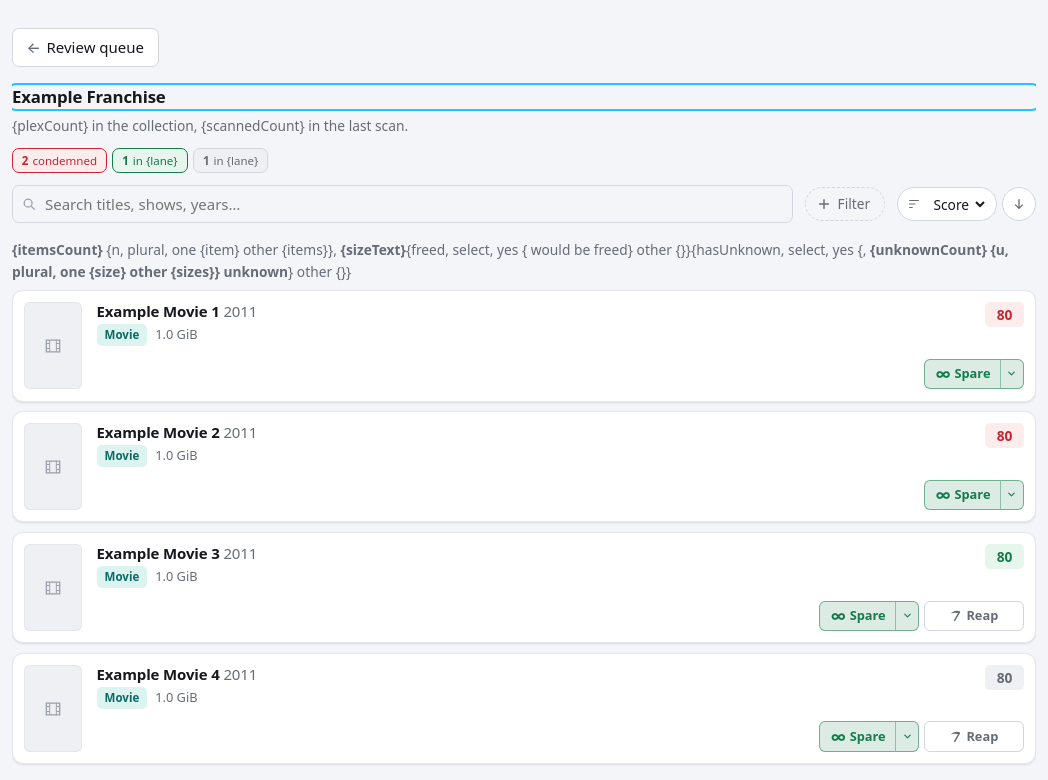
Test: the collection screen › the back link returns to a plain lane view
expect the button "Example Movie 1" is shown: met, box [97,302,220,320]
Click the button "← Review queue": (85, 47) [12,28,159,67]
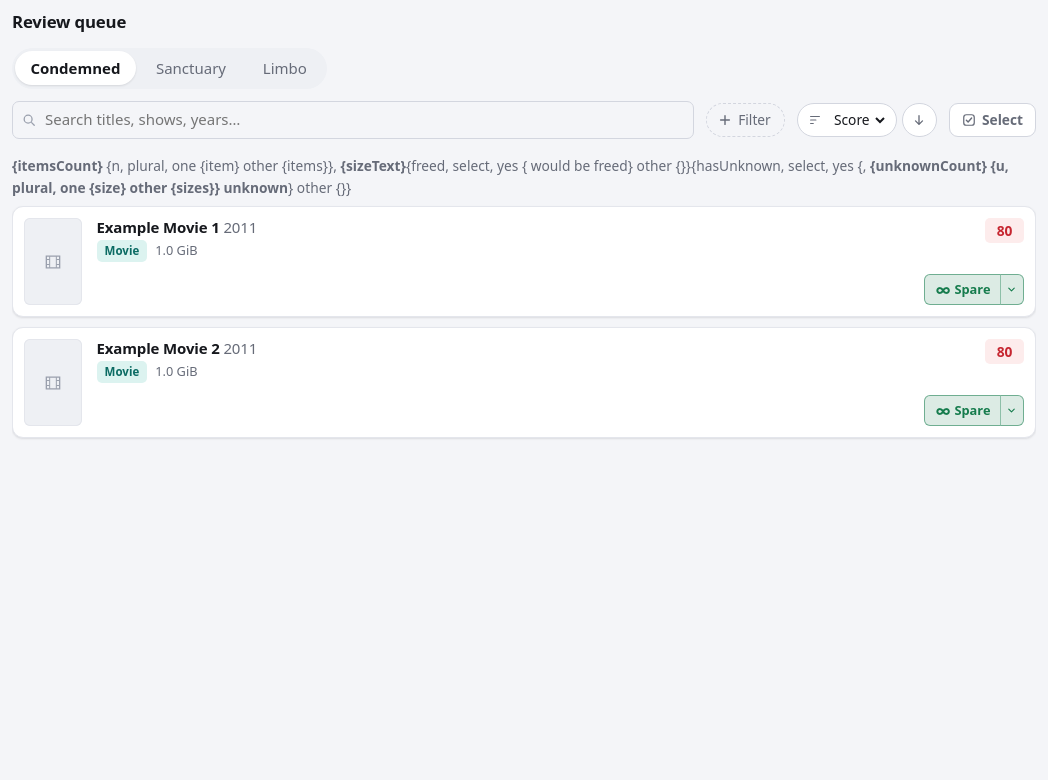
expect the button "Condemned" is shown: met, box [15,51,136,85]
expect the heading "Example Franchise" is gone: met
